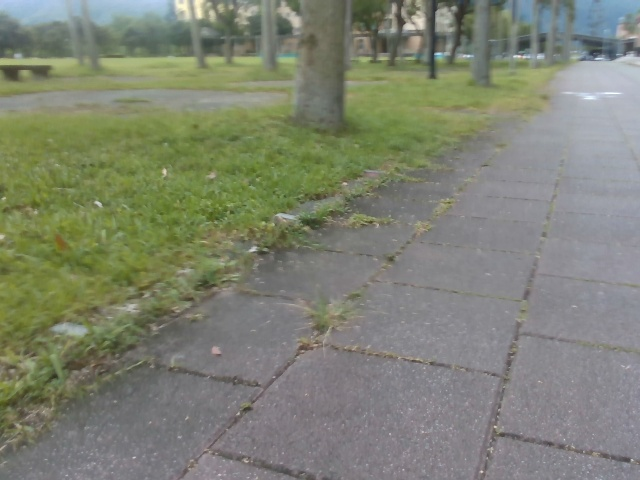grass: (0, 57, 577, 421), (349, 0, 605, 71), (0, 0, 302, 60)
road: (0, 61, 639, 479), (0, 90, 286, 113)
